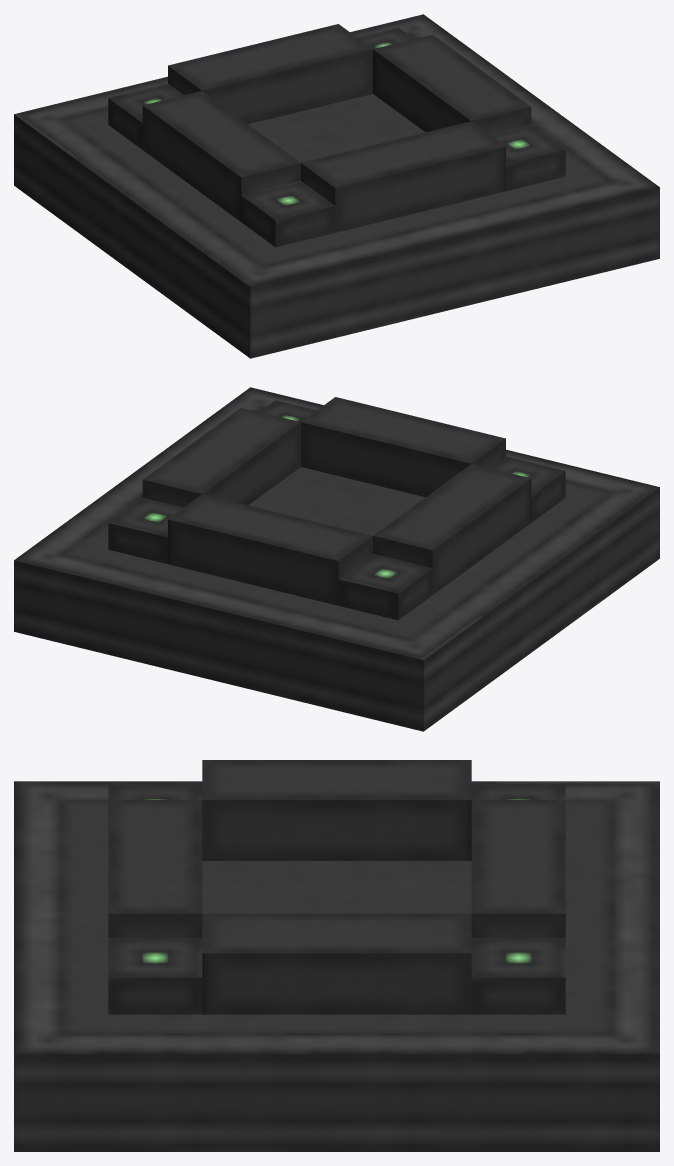
File: turret_base.obj
The picture shows the model from 3 angles, top to bottom: view 1: azimuth 30°, elevation 25°; view 2: azimuth 150°, elevation 25°; view 3: azimuth 270°, elevation 25°; orthographic projection. The views are drawn at different scales.
Visible parts, largest first — view 1: cube, cube.005, cube.000, cube.006, cube.007, cube.002, cube.003, cube.001, cube.004; view 2: cube, cube.000, cube.005, cube.006, cube.007, cube.001, cube.004, cube.002, cube.003; view 3: cube, cube.007, cube.006, cube.000, cube.005, cube.003, cube.004, cube.001, cube.002.
Boxes of the visible parts, x1=… form: cube: x1=14, y1=14, x2=659, y2=358; cube.005: x1=301, y1=121, x2=505, y2=232; cube.000: x1=168, y1=24, x2=372, y2=124; cube.006: x1=142, y1=91, x2=300, y2=221; cube.007: x1=373, y1=34, x2=531, y2=134; cube.002: x1=241, y1=181, x2=335, y2=247; cube.003: x1=490, y1=124, x2=565, y2=190; cube.001: x1=108, y1=83, x2=183, y2=149; cube.004: x1=357, y1=27, x2=413, y2=48; cube: x1=14, y1=387, x2=659, y2=731; cube.000: x1=168, y1=494, x2=372, y2=605; cube.005: x1=301, y1=397, x2=505, y2=497; cube.006: x1=373, y1=464, x2=531, y2=594; cube.007: x1=142, y1=407, x2=300, y2=507; cube.001: x1=338, y1=554, x2=432, y2=620; cube.004: x1=108, y1=497, x2=183, y2=563; cube.002: x1=490, y1=456, x2=565, y2=522; cube.003: x1=260, y1=400, x2=316, y2=421; cube: x1=14, y1=781, x2=659, y2=1151; cube.007: x1=202, y1=913, x2=471, y2=1014; cube.006: x1=202, y1=760, x2=471, y2=860; cube.000: x1=471, y1=800, x2=565, y2=937; cube.005: x1=108, y1=800, x2=202, y2=937; cube.003: x1=108, y1=938, x2=202, y2=1014; cube.004: x1=471, y1=938, x2=565, y2=1014; cube.001: x1=471, y1=784, x2=565, y2=799; cube.002: x1=108, y1=784, x2=202, y2=799.
Size of the model in its own units: 3 by 0.8133 by 3.
Materials: 1 (1 with a texture image).
